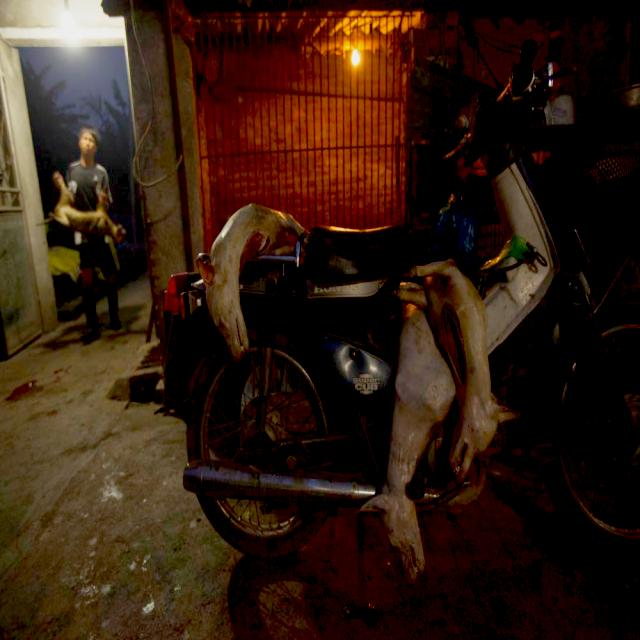Motorbike: (176, 45, 640, 575)
